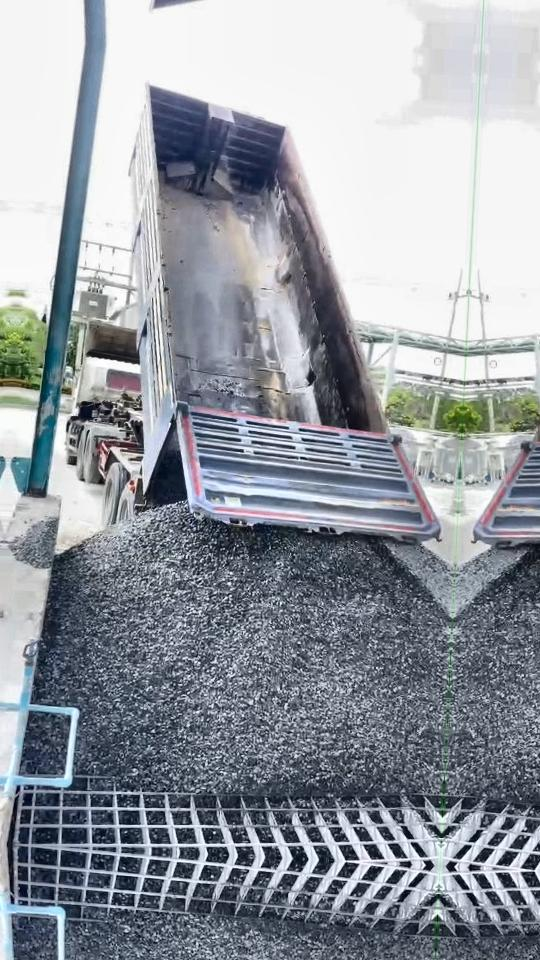gravel: (34, 503, 449, 795), (385, 541, 452, 614), (7, 517, 58, 568), (24, 716, 65, 773)
